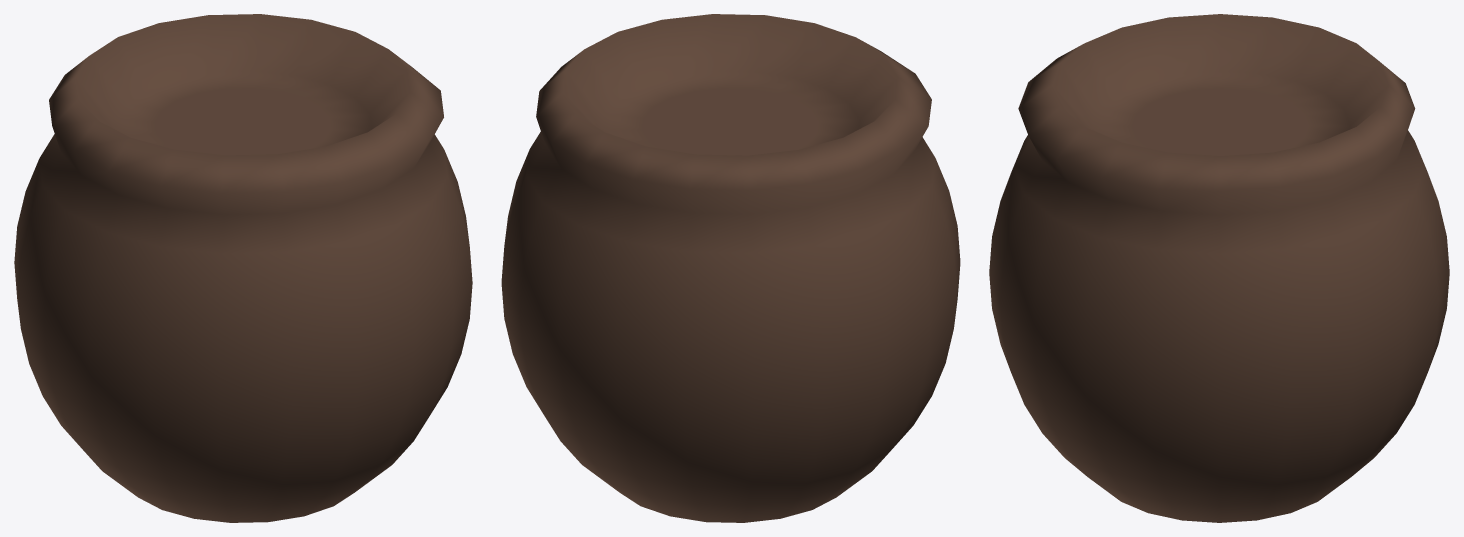
File: SQ_Object_Pot.fbx
3 views of the same model, side by side, from view 1: azimuth 30°, elevation 25°; view 2: azimuth 150°, elevation 25°; view 3: azimuth 270°, elevation 25° (orthographic).
Parts seen in each view (by area): view 1: pSphere1; view 2: pSphere1; view 3: pSphere1.
Part boxes in pixels (box(x1,y1,x2,y2)): pSphere1: box(14, 14, 472, 522); pSphere1: box(501, 14, 960, 522); pSphere1: box(989, 14, 1449, 522).
Bounding box in the file's own units: 3.97 × 3.68 × 3.97.
